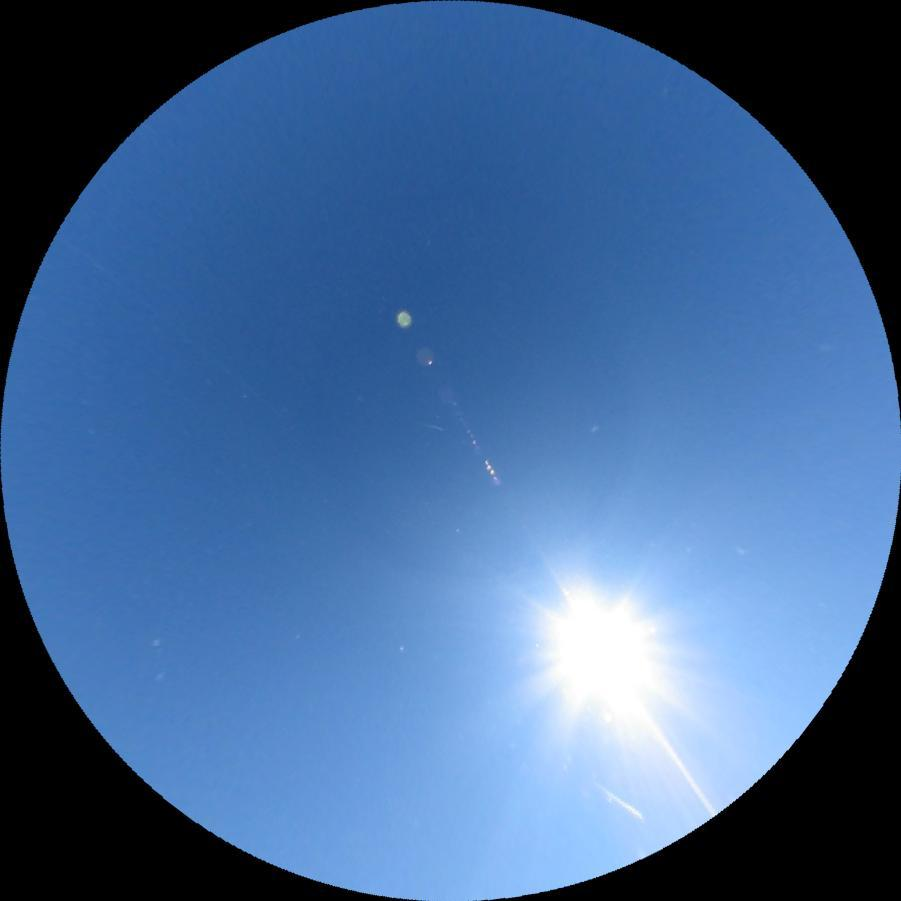contrail young: (584, 777, 647, 821), (420, 420, 446, 432)
parasite: (642, 713, 720, 816)
sun: (547, 583, 660, 724)
